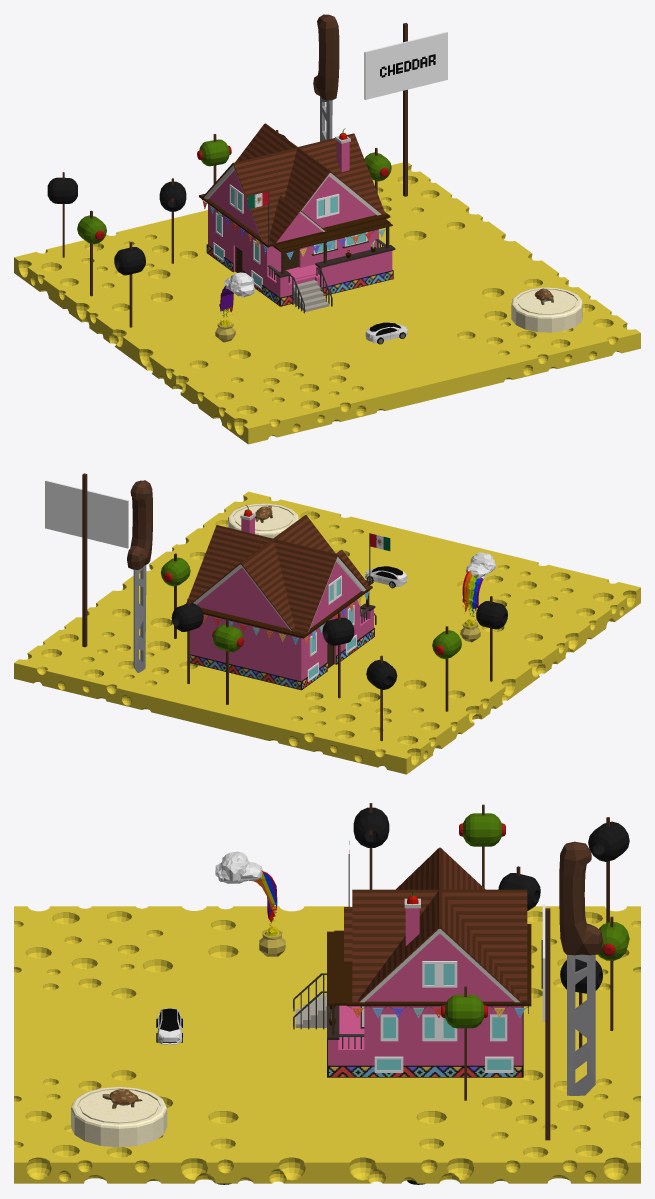
3 renders of one model, top to bottom at view 1: azimuth 30°, elevation 25°; view 2: azimuth 150°, elevation 25°; view 3: azimuth 270°, elevation 25°, orthographic. The views are drawn at different scales.
Visible parts, largest first — view 1: Cube.022, Cube.1005, Cube.023, Cylinder.016, Cube.024, OBJRANDOM_RAINBOW, Sphere.017, Sphere.016, Sphere.020, Sphere.018, Sphere.022, VEHICLES_TESLA (+1 smaller); view 2: Cube.022, Cube.1005, Cube.023, Cube.024, OBJRANDOM_RAINBOW, Cylinder.016, Sphere.017, Sphere.020, Sphere.021, Sphere.016, Sphere.018, Sphere.022 (+2 smaller); view 3: Cube.022, Cube.1005, Cube.024, Cylinder.016, OBJRANDOM_RAINBOW, Cube.023, Sphere.019, Sphere.016, Sphere.018, Sphere.017, Sphere.022, VEHICLES_TESLA (+2 smaller).
Part boxes in pixels (left/top/right/bottom): Cube.022: left=14, top=162, right=640, bottom=444; Cube.1005: left=199, top=123, right=395, bottom=313; Cube.023: left=364, top=23, right=447, bottom=196; Cylinder.016: left=511, top=287, right=582, bottom=332; Cube.024: left=313, top=14, right=339, bottom=141; OBJRANDOM_RAINBOW: left=215, top=272, right=255, bottom=342; Sphere.017: left=114, top=242, right=145, bottom=327; Sphere.016: left=47, top=172, right=77, bottom=257; Sphere.020: left=159, top=178, right=186, bottom=263; Sphere.018: left=77, top=210, right=106, bottom=296; Sphere.022: left=197, top=134, right=231, bottom=183; VEHICLES_TESLA: left=365, top=322, right=407, bottom=344; Cube.022: left=14, top=491, right=640, bottom=774; Cube.1005: left=184, top=505, right=390, bottom=690; Cube.023: left=45, top=473, right=128, bottom=647; Cube.024: left=127, top=480, right=152, bottom=672; OBJRANDOM_RAINBOW: left=460, top=552, right=495, bottom=642; Cylinder.016: left=228, top=503, right=298, bottom=538; Sphere.017: left=476, top=596, right=507, bottom=681; Sphere.020: left=322, top=612, right=354, bottom=698; Sphere.021: left=171, top=598, right=203, bottom=683; Sphere.016: left=366, top=655, right=397, bottom=741; Sphere.018: left=432, top=626, right=461, bottom=711; Sphere.022: left=212, top=619, right=244, bottom=704; Cube.022: left=14, top=906, right=640, bottom=1183; Cube.1005: left=293, top=841, right=531, bottom=1077; Cube.024: left=559, top=841, right=602, bottom=1095; Cylinder.016: left=71, top=1086, right=167, bottom=1147; OBJRANDOM_RAINBOW: left=215, top=851, right=285, bottom=956; Cube.023: left=541, top=904, right=550, bottom=1140; Sphere.019: left=441, top=986, right=487, bottom=1100; Sphere.016: left=588, top=817, right=629, bottom=922; Sphere.018: left=459, top=804, right=505, bottom=887; Sphere.017: left=353, top=803, right=389, bottom=889; Sphere.022: left=598, top=916, right=629, bottom=1030; VEHICLES_TESLA: left=156, top=1008, right=182, bottom=1044.
Size of the model in its own units: 3917 by 1985 by 4000.
Materials: 78 (5 with a texture image).
